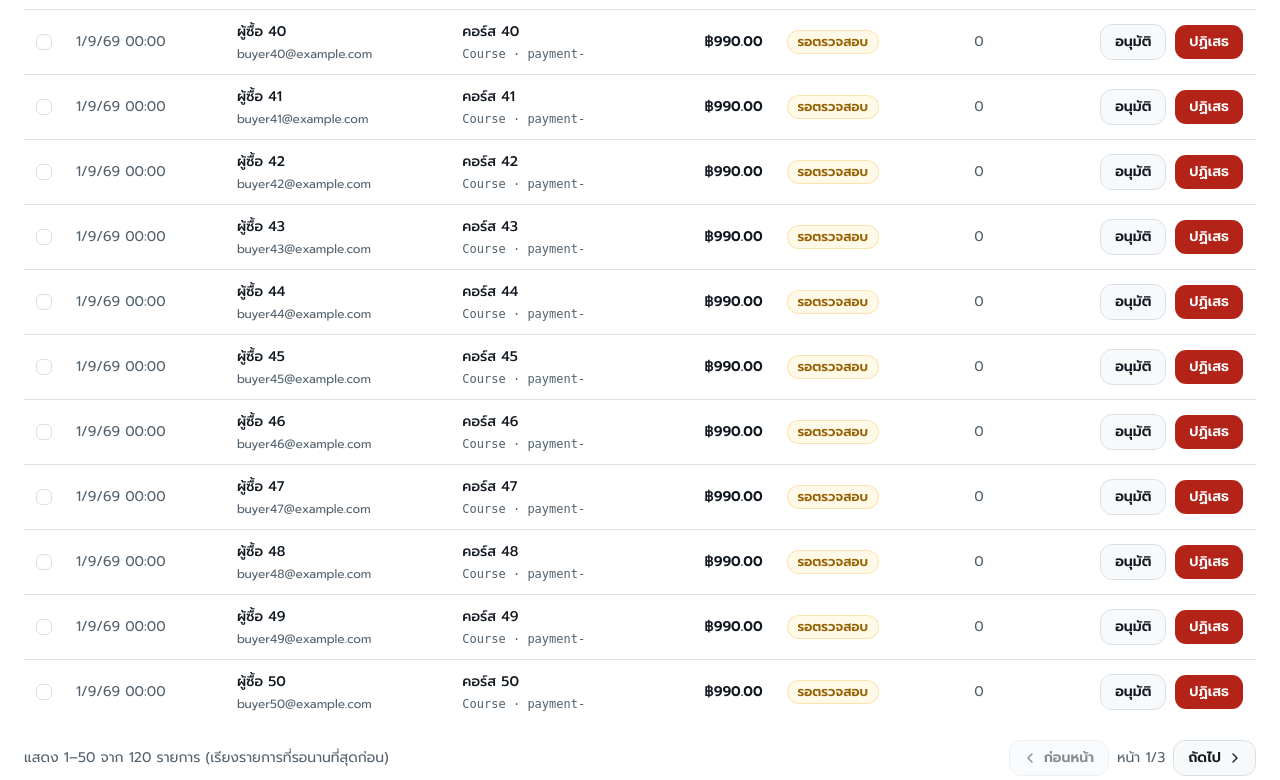
Admin reconciliation queue states › pagination and search › sends the search term and returns to page 1
The width and height of the screenshot is (1280, 780).
(page scrolled)
Click the button "ถัดไป" at (1215, 758), box [1173,740,1256,776]
(page scrolled)
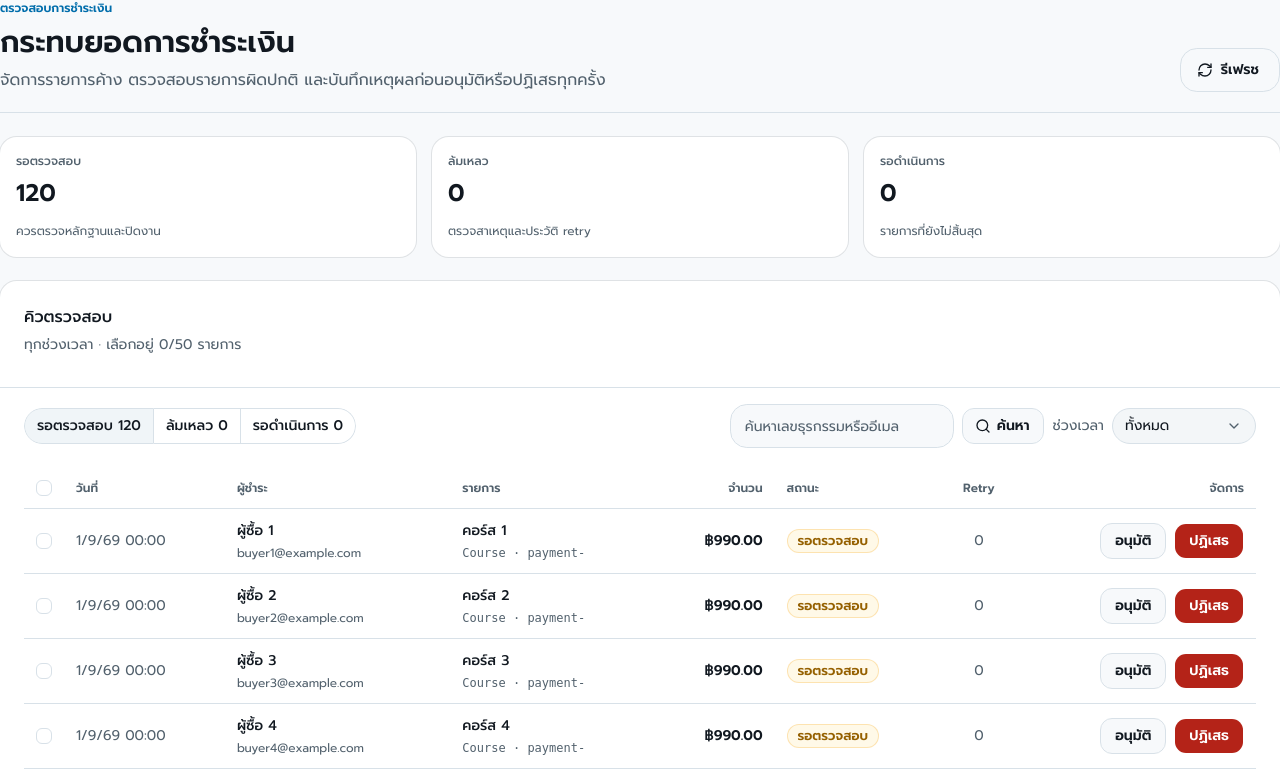
Type "  buyer1@example.com " into the field labelled "ค้นหาเลขธุรกรรมหรืออีเมล" at (842, 426), box [730,404,954,448]
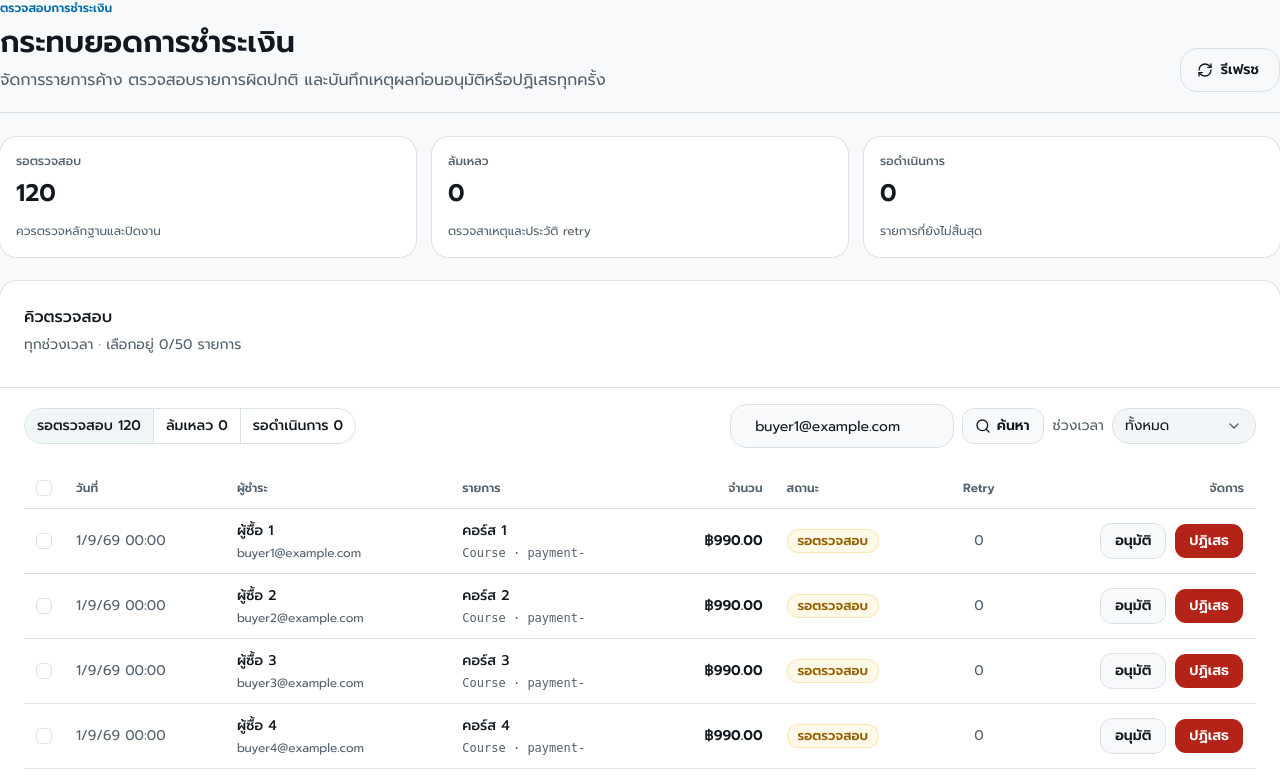
Click the button "ค้นหา" at (1003, 426), box [962,408,1044,444]
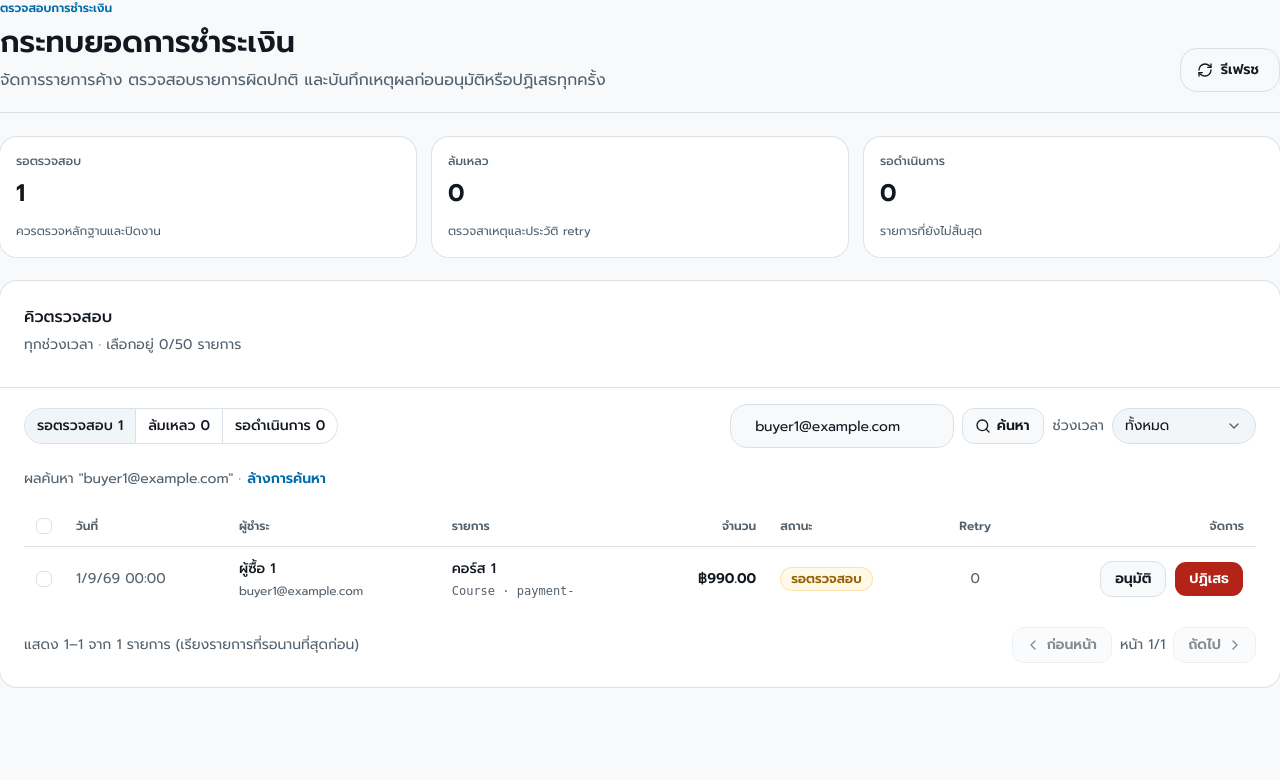
Now the text "ผลค้นหา \"buyer1@example.com\" · ล้างการค้นหา" is shown, box [24,468,327,490]
